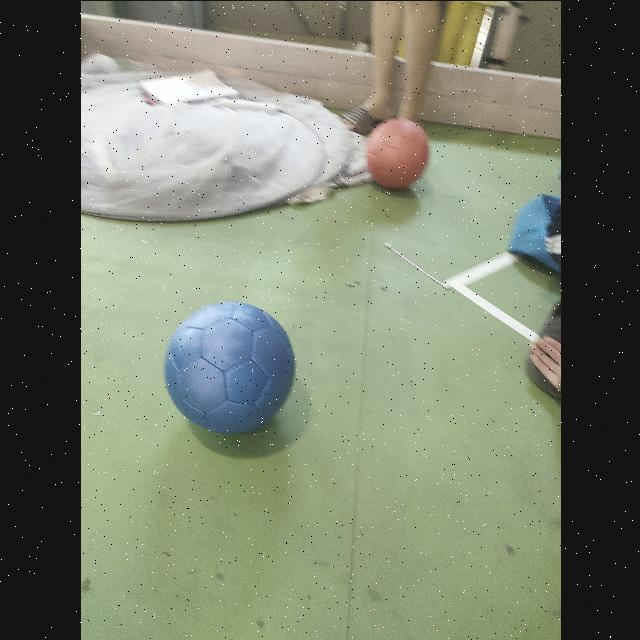R: (366, 118, 428, 188)
